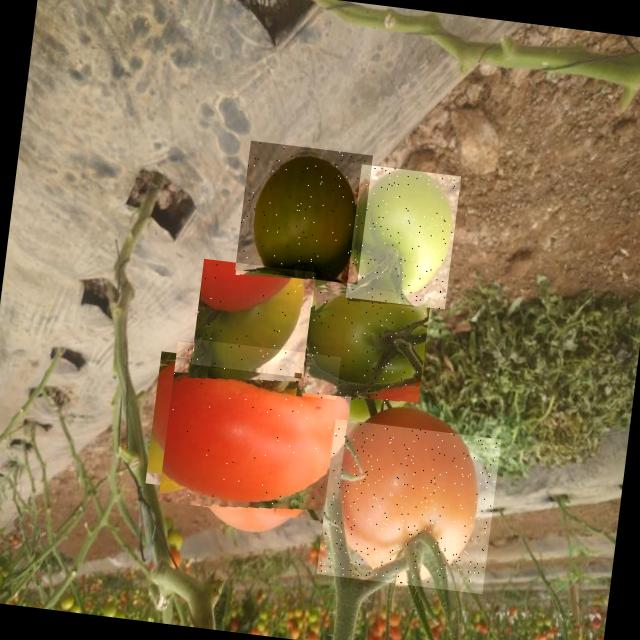Ripe Tomato: (157, 337, 340, 520), (316, 418, 501, 594)
Unripe Tomato: (235, 140, 372, 284), (345, 164, 461, 309), (302, 282, 427, 407), (191, 258, 316, 374)
